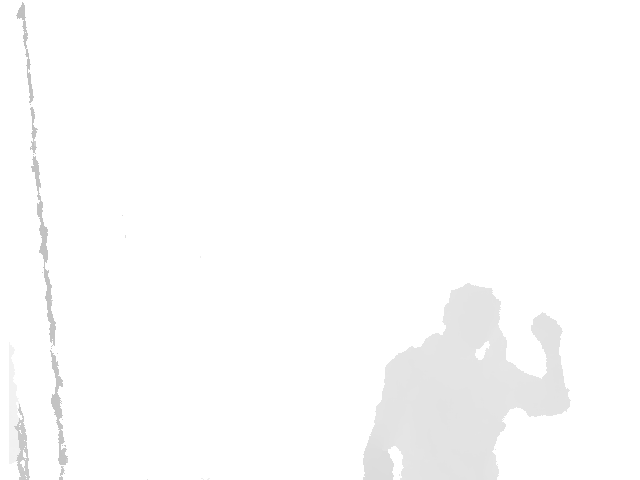hand: (531, 312, 563, 357)
head: (441, 283, 503, 360)
person: (362, 283, 572, 480)
